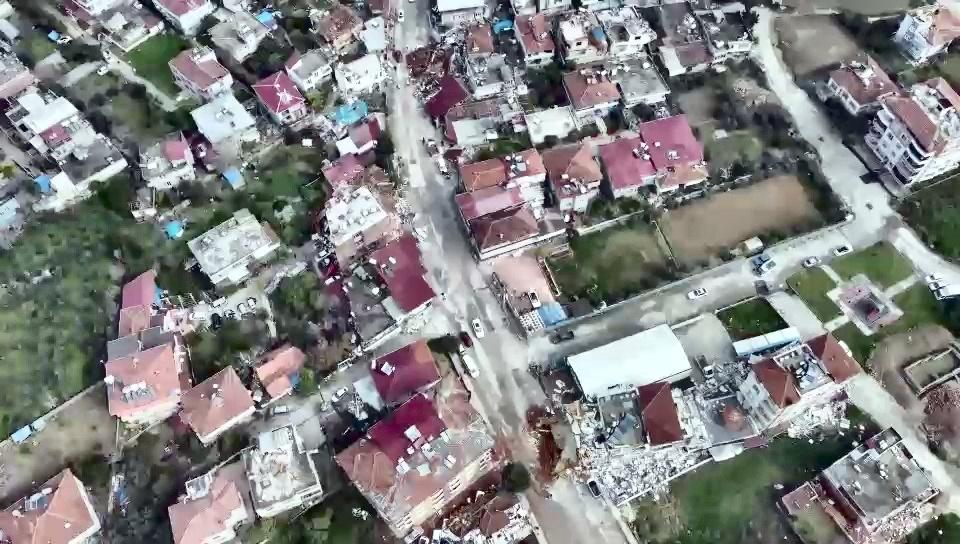kapali: (482, 384, 609, 535), (388, 30, 441, 139)
